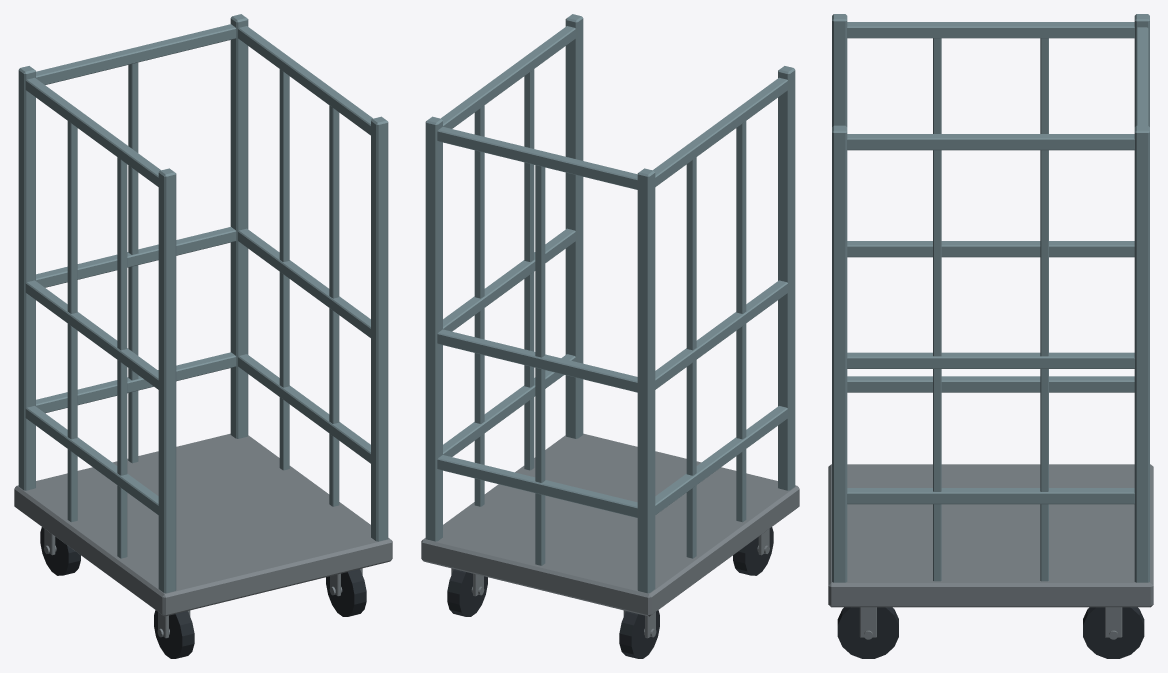
The picture shows the model from 3 angles, left to right: view 1: azimuth 30°, elevation 25°; view 2: azimuth 150°, elevation 25°; view 3: azimuth 270°, elevation 25°; orthographic projection. The views are drawn at different scales.
Visible parts, largest first — view 1: Cargo base deck, Tall corner post, Tall corner post.002, Tall corner post.003, Tall corner post.001, Side upright infill.003, Side upright infill.001, Side upright infill, Side upright infill.002, Rear center upright, Rear frame rail.002, Rear frame rail.001 (+10 smaller); view 2: Cargo base deck, Tall corner post.001, Tall corner post.003, Tall corner post, Tall corner post.002, Rear center upright, Side upright infill, Side upright infill.001, Side upright infill.002, Side upright infill.003, Rear frame rail.002, Rear frame rail.001 (+10 smaller); view 3: Cargo base deck, Tall corner post.002, Tall corner post.003, Side frame rail.002, Side frame rail.005, Side frame rail.003, Side frame rail.004, Side frame rail, Side frame rail.001, Side upright infill.002, Side upright infill.003, Flat tread caster wheel.002 (+8 smaller).
Part boxes in pixels (box(x1,y1,x2,y2)): Cargo base deck: box(14, 433, 392, 616); Tall corner post: box(158, 168, 176, 593); Tall corner post.002: box(371, 116, 388, 541); Tall corner post.003: box(230, 14, 248, 438); Tall corner post.001: box(18, 66, 35, 490); Side upright infill.003: box(279, 69, 289, 470); Side upright infill.001: box(67, 121, 77, 522); Side upright infill: box(117, 157, 127, 558); Side upright infill.002: box(329, 105, 339, 506); Rear center upright: box(128, 62, 138, 463); Rear frame rail.002: box(36, 24, 236, 84); Rear frame rail.001: box(36, 227, 236, 287); Cargo base deck: box(421, 433, 799, 616); Tall corner post.001: box(637, 168, 655, 593); Tall corner post.003: box(425, 116, 442, 541); Tall corner post: box(778, 66, 795, 490); Tall corner post.002: box(565, 14, 583, 438); Rear center upright: box(535, 165, 545, 565); Side upright infill: box(736, 121, 746, 522); Side upright infill.001: box(686, 157, 696, 558); Side upright infill.002: box(524, 69, 534, 470); Side upright infill.003: box(474, 105, 484, 506); Rear frame rail.002: box(437, 127, 637, 189); Rear frame rail.001: box(437, 329, 637, 392); Cargo base deck: box(828, 464, 1153, 607); Tall corner post.002: box(832, 125, 847, 582); Tall corner post.003: box(1134, 125, 1149, 582); Side frame rail.002: box(847, 22, 1134, 38); Side frame rail.005: box(847, 134, 1134, 150); Side frame rail.003: box(847, 488, 1134, 504); Side frame rail.004: box(847, 352, 1134, 368); Side frame rail: box(847, 376, 1134, 392); Side frame rail.001: box(847, 241, 1134, 257); Side upright infill.002: box(933, 150, 941, 581); Side upright infill.003: box(1040, 150, 1048, 581); Flat tread caster wheel.002: box(837, 607, 898, 658).
Size of the model in its own units: 0.75 by 1.55 by 0.85.
